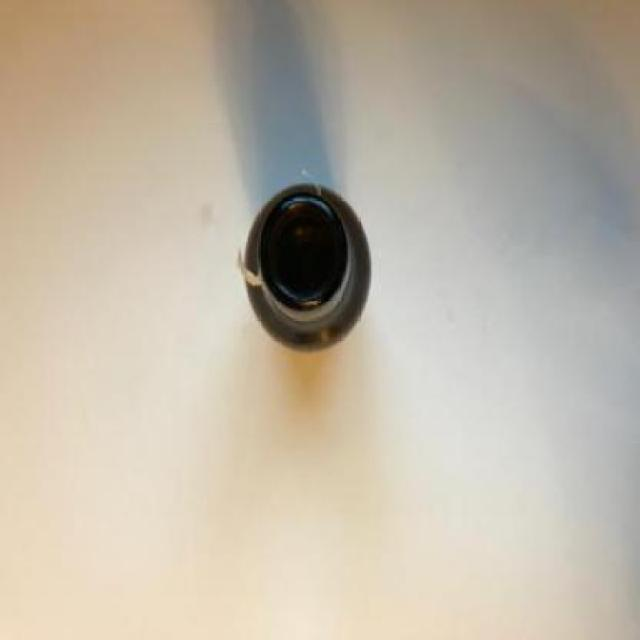kaca: (240, 184, 369, 353)
